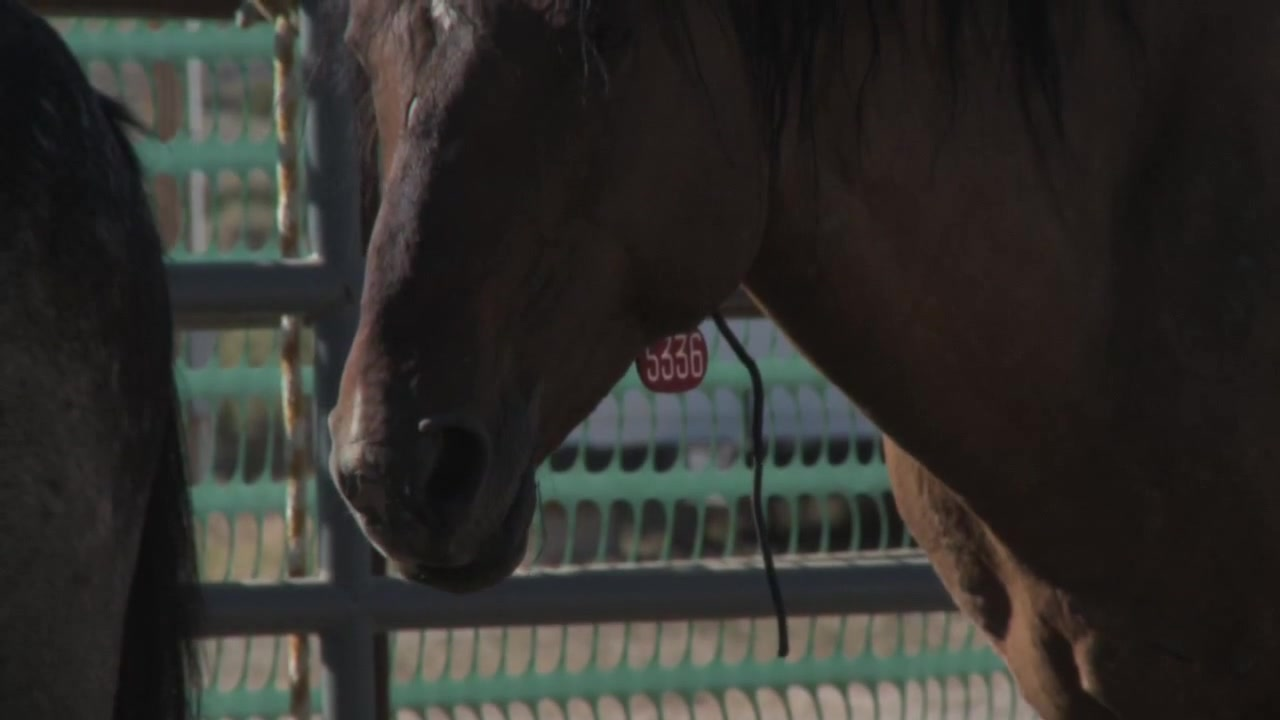horse: (327, 3, 1280, 720), (1, 1, 207, 720)
